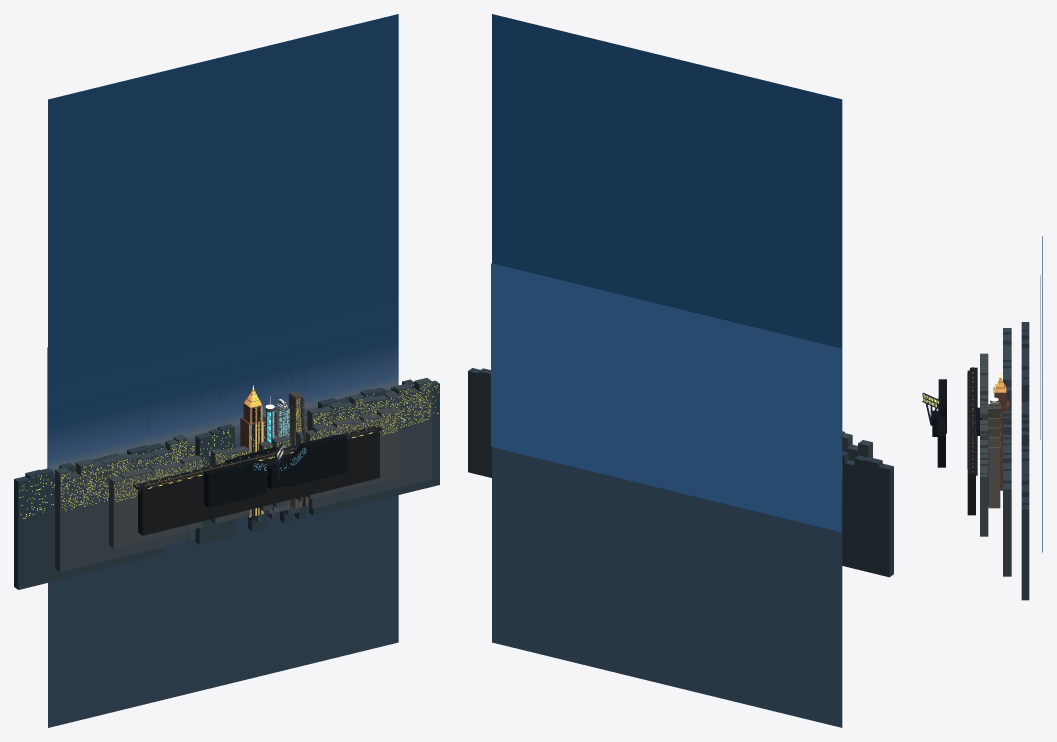
The model's file is atl-hoe.glb.
3 views of the same model, side by side, from view 1: azimuth 30°, elevation 25°; view 2: azimuth 150°, elevation 25°; view 3: azimuth 270°, elevation 25° (orthographic). The views are drawn at different scales.
Parts seen in each view (by area): view 1: skyCapTop, skyCapBottom, midBuildings, distantBuildings, road, nearBuildings, foliageBack, skyBand06, skyBand09, skyBand04, skyBand08, skyBand00 (+17 smaller); view 2: skyCapTop, skyCapBottom, sky, distantBuildings; view 3: distantBuildings, midBuildings, nearBuildings, road, foliageBack, gpStoneC, bofaGlass, sky, gpStoneB, roadPole.
Part boxes in pixels (left/top/right/bottom): skyCapTop: left=48, top=14, right=398, bottom=376; skyCapBottom: left=48, top=495, right=398, bottom=727; midBuildings: left=55, top=378, right=431, bottom=572; distantBuildings: left=14, top=379, right=439, bottom=589; road: left=133, top=425, right=381, bottom=535; nearBuildings: left=109, top=407, right=399, bottom=548; foliageBack: left=204, top=434, right=347, bottom=507; skyBand06: left=48, top=323, right=398, bottom=413; skyBand09: left=48, top=339, right=398, bottom=429; skyBand04: left=48, top=312, right=398, bottom=403; skyBand08: left=48, top=333, right=398, bottom=423; skyBand00: left=48, top=291, right=398, bottom=382; skyCapTop: left=492, top=14, right=842, bottom=376; skyCapBottom: left=492, top=447, right=842, bottom=727; sky: left=491, top=263, right=841, bottom=532; distantBuildings: left=468, top=368, right=893, bottom=577; distantBuildings: left=1021, top=322, right=1029, bottom=600; midBuildings: left=1003, top=328, right=1011, bottom=576; nearBuildings: left=980, top=353, right=988, bottom=536; road: left=967, top=367, right=977, bottom=515; foliageBack: left=932, top=379, right=981, bottom=467; gpStoneC: left=988, top=437, right=1000, bottom=508; bofaGlass: left=994, top=388, right=1009, bottom=490; sky: left=1042, top=236, right=1042, bottom=552; gpStoneB: left=988, top=418, right=1000, bottom=437; roadPole: left=967, top=367, right=973, bottom=472.
Bounding box in the file's own units: 168 × 240 × 46.78.
